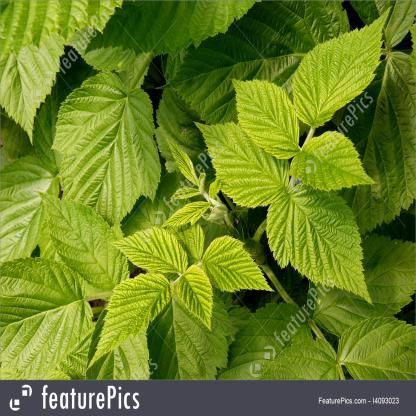Raspberry leaf: (267, 185, 376, 307), (290, 4, 394, 128), (86, 270, 175, 369), (194, 118, 290, 209), (232, 76, 306, 162), (291, 132, 378, 190), (198, 230, 273, 292), (111, 228, 191, 272), (177, 264, 215, 331)
